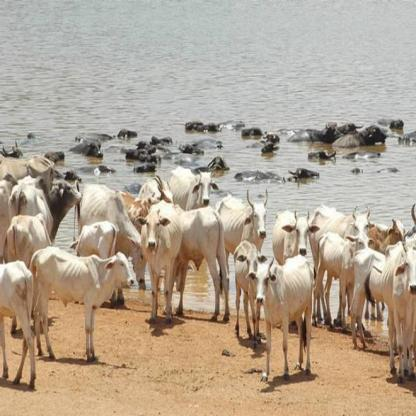cow: (35, 248, 134, 358), (252, 261, 314, 382), (80, 184, 146, 282), (177, 208, 230, 320), (140, 203, 182, 325), (0, 260, 35, 389), (320, 233, 368, 326), (381, 252, 416, 377), (308, 203, 372, 267), (351, 250, 389, 351), (233, 242, 262, 347), (217, 201, 268, 257), (273, 209, 309, 267), (50, 181, 82, 244), (169, 170, 214, 214), (8, 215, 47, 263), (9, 177, 50, 218), (74, 222, 115, 260), (285, 122, 341, 144), (333, 124, 387, 146), (70, 138, 104, 159)
